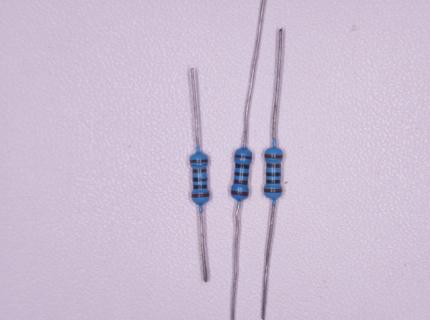Black band: (234, 171, 249, 177), (235, 163, 249, 169), (266, 172, 281, 176), (193, 178, 208, 182), (193, 185, 207, 189), (266, 180, 281, 183)
Brown band: (231, 190, 249, 196), (191, 193, 209, 198), (264, 188, 282, 193), (234, 154, 252, 159), (234, 179, 247, 185), (190, 159, 208, 163), (265, 154, 283, 158), (267, 163, 281, 168), (192, 169, 206, 173)
